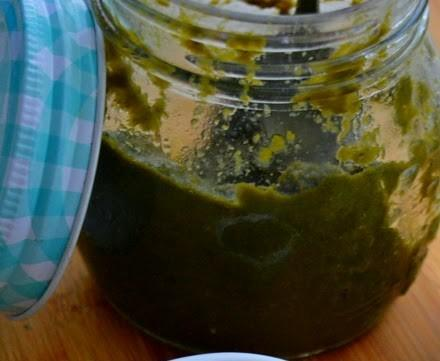GreenChutney: (75, 132, 439, 361)
